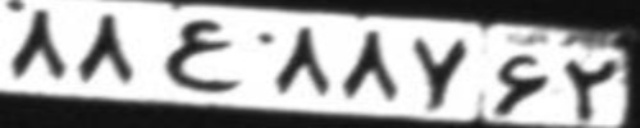2: (563, 55, 618, 119)
6: (494, 52, 550, 115)
7: (409, 33, 473, 108)
8: (343, 27, 399, 101), (12, 5, 67, 78), (77, 12, 133, 82), (276, 24, 331, 95)
ain: (164, 16, 242, 93)
